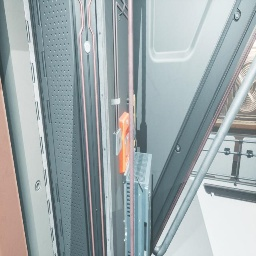EmergencyPhone ,: (127, 89, 137, 153)
FireAlarm ,: (119, 112, 130, 174)
